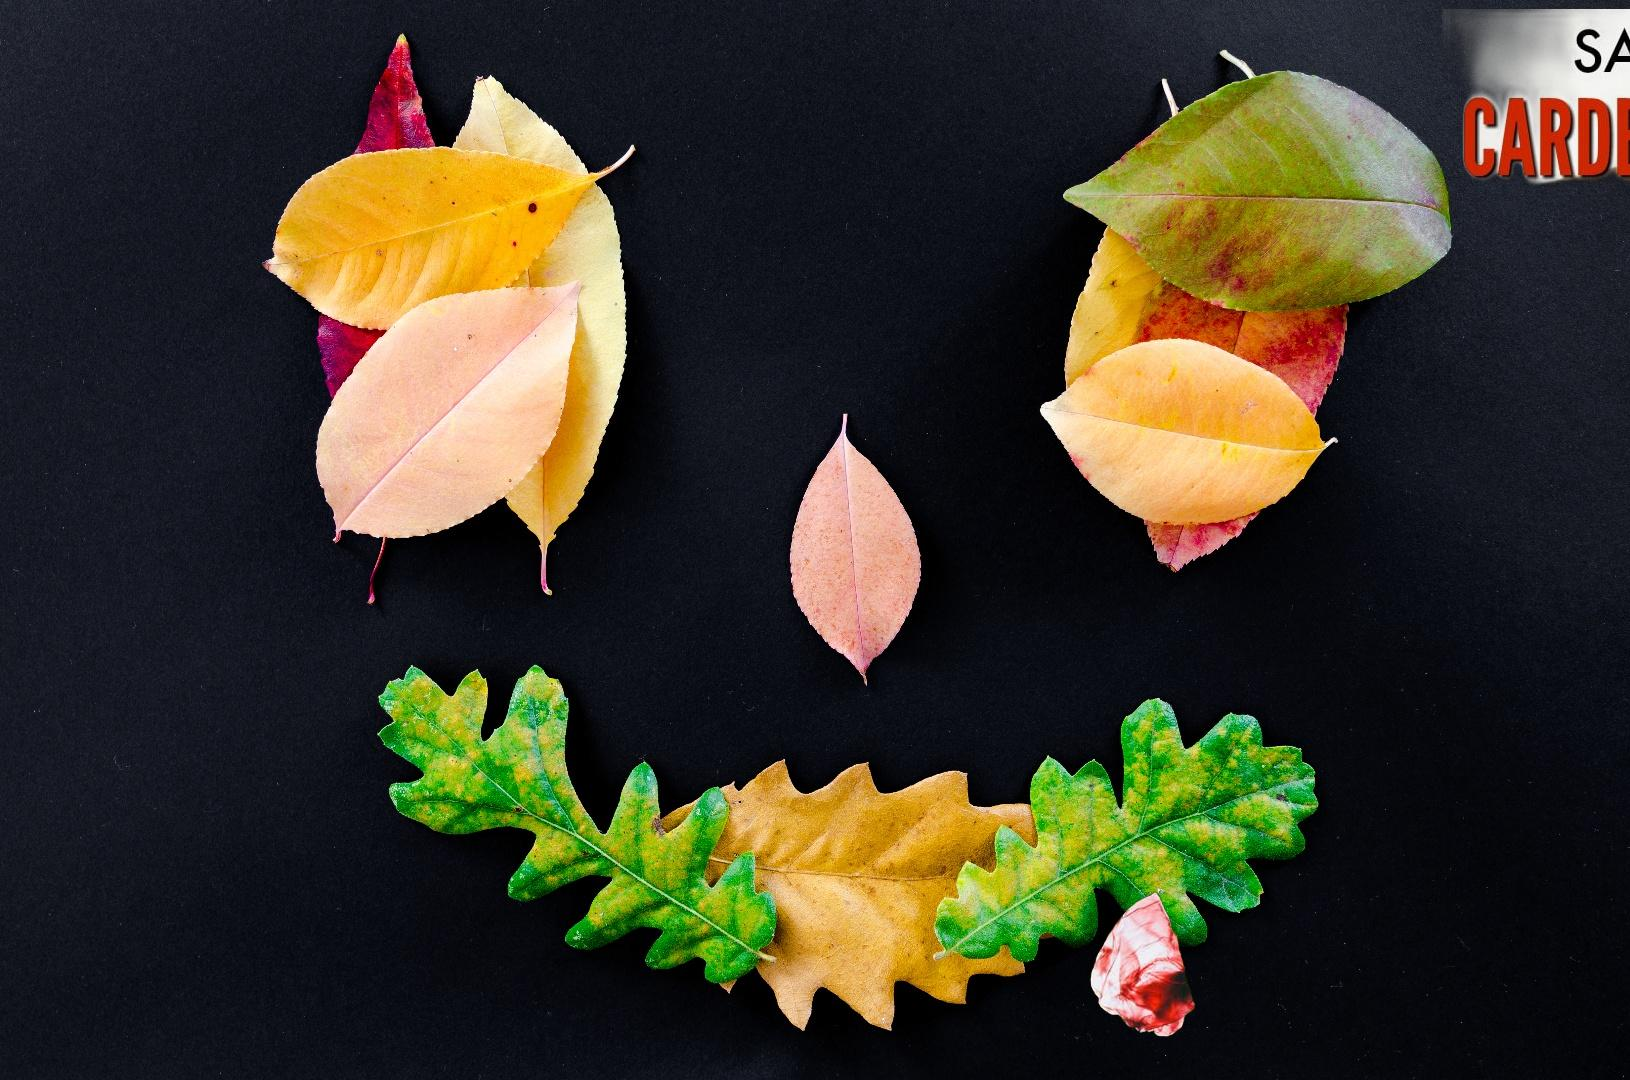plastic-bag: (1087, 890, 1198, 1039)
trashbox-cardboard: (1442, 8, 1630, 231)
